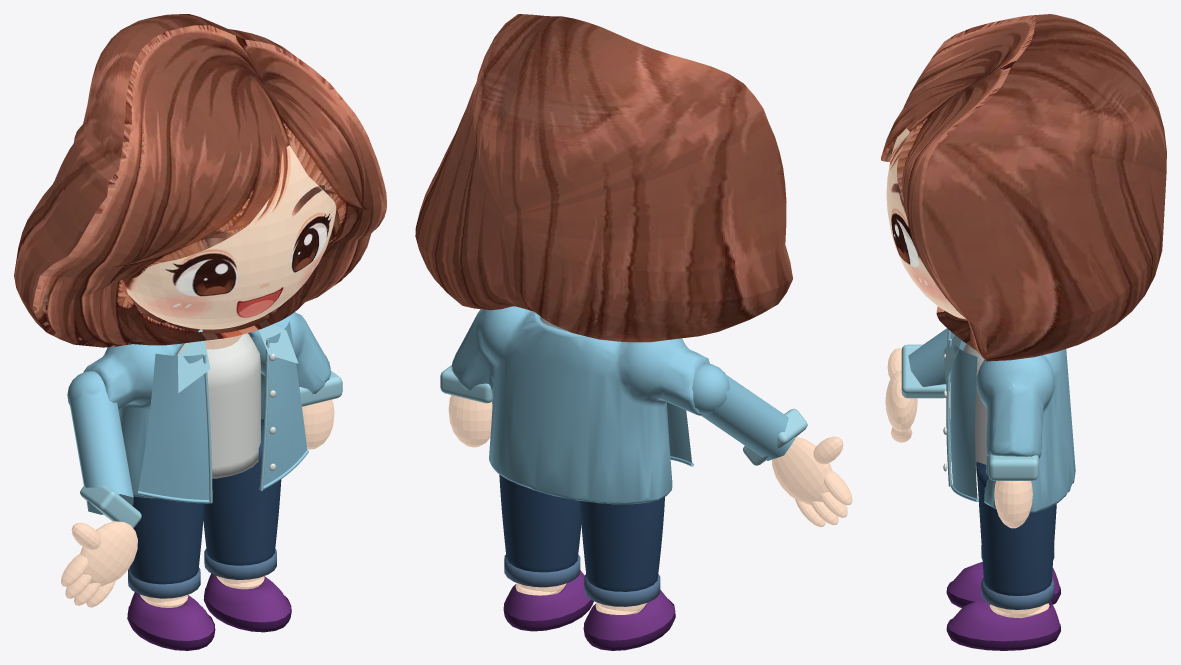
The model's file is huiwen-wave.glb.
The picture shows the model from 3 angles, left to right: view 1: azimuth 30°, elevation 25°; view 2: azimuth 150°, elevation 25°; view 3: azimuth 270°, elevation 25°; orthographic projection. The views are drawn at different scales.
Visible parts, largest first — view 1: Huiwen continuous concept layered bob, Open light blue shirt panel, Huiwen approved concept smooth face, Soft wave elbow, Wave finger 0, White shirt button, Neck; view 2: Huiwen continuous concept layered bob, Open light blue shirt panel, Soft wave elbow, Wave finger 0, Neck, White shirt button; view 3: Huiwen continuous concept layered bob, Open light blue shirt panel, Huiwen approved concept smooth face, Soft wave elbow, White shirt button, Neck, Wave finger 0.
Boxes of the visible parts, x1,y1,x2,y2 form: Huiwen continuous concept layered bob: (14,14,386,347); Open light blue shirt panel: (83,312,330,650); Huiwen approved concept smooth face: (123,145,336,329); Soft wave elbow: (67,371,141,528); Wave finger 0: (61,521,137,607); White shirt button: (137,339,342,503); Neck: (140,335,334,607); Huiwen continuous concept layered bob: (415,14,792,342); Open light blue shirt panel: (451,306,709,650); Soft wave elbow: (692,363,807,465); Wave finger 0: (772,436,852,527); Neck: (448,395,646,614); White shirt button: (440,365,693,466); Huiwen continuous concept layered bob: (881,14,1166,361); Open light blue shirt panel: (943,332,1075,650); Huiwen approved concept smooth face: (886,128,967,320); Soft wave elbow: (901,328,951,398); White shirt button: (943,329,1038,501); Neck: (989,481,1049,618); Wave finger 0: (885,348,917,442).
Bounding box in the file's own units: 1.9 × 3 × 1.33.
Materials: 6 (6 with a texture image).
